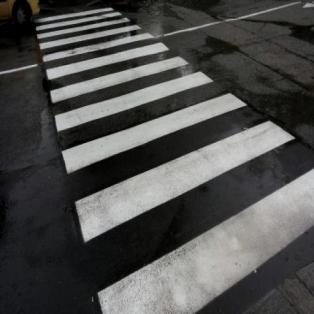Paso de Cebra: (53, 68, 249, 179)
